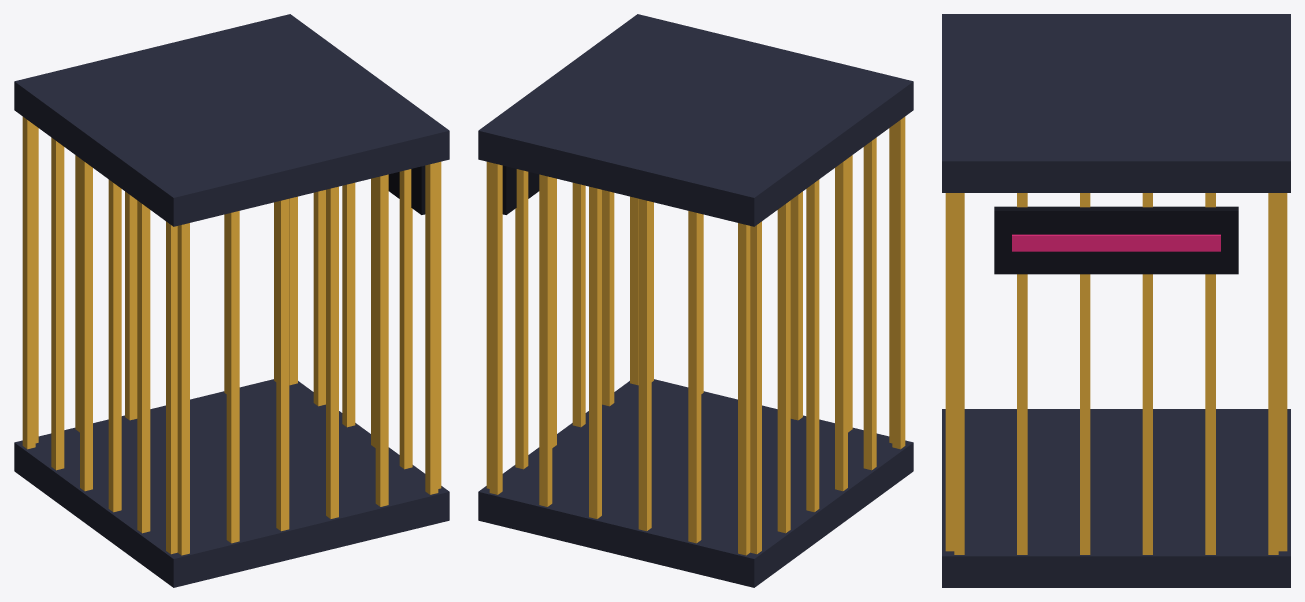
The model's file is pf_cage.glb.
The picture shows the model from 3 angles, left to right: view 1: azimuth 30°, elevation 25°; view 2: azimuth 150°, elevation 25°; view 3: azimuth 270°, elevation 25°; orthographic projection. The views are drawn at different scales.
Parts seen in each view (by area): view 1: p_box.1638, p_box.1637, p_box.1660, p_box.1644, p_box.1648, p_box.1656, p_box.1647, p_box.1659, p_box.1643, p_box.1655, p_box.1640, p_box.1652 (+12 smaller); view 2: p_box.1638, p_box.1637, p_box.1662, p_box.1646, p_box.1650, p_box.1658, p_box.1651, p_box.1639, p_box.1643, p_box.1655, p_box.1642, p_box.1654 (+12 smaller); view 3: p_box.1638, p_box.1637, p_box.1663, p_box.1641, p_box.1661, p_box.1664, p_box.1660, p_box.1662, p_box.1645, p_box.1657, p_box.1649, p_box.1653.
Part boxes in pixels (x1,y1,x2,y2): p_box.1638: (14, 14, 449, 226); p_box.1637: (14, 379, 449, 587); p_box.1660: (425, 162, 438, 494); p_box.1644: (226, 211, 239, 543); p_box.1648: (276, 199, 289, 531); p_box.1656: (375, 174, 388, 506); p_box.1647: (108, 179, 121, 512); p_box.1659: (22, 116, 35, 449); p_box.1643: (137, 200, 150, 533); p_box.1655: (51, 137, 64, 470); p_box.1640: (177, 223, 189, 555); p_box.1652: (326, 186, 338, 518); p_box.1638: (478, 14, 913, 226); p_box.1637: (478, 379, 913, 587); p_box.1662: (489, 162, 502, 494); p_box.1646: (688, 211, 701, 543); p_box.1650: (638, 199, 651, 531); p_box.1658: (539, 174, 552, 506); p_box.1651: (806, 179, 819, 512); p_box.1639: (892, 116, 905, 449); p_box.1643: (863, 137, 876, 470); p_box.1655: (777, 200, 790, 533); p_box.1642: (738, 223, 750, 555); p_box.1654: (589, 186, 601, 518); p_box.1638: (942, 14, 1290, 192); p_box.1637: (942, 409, 1290, 587); p_box.1663: (994, 206, 1238, 274); p_box.1641: (954, 193, 964, 554); p_box.1661: (1268, 193, 1278, 554); p_box.1664: (1012, 234, 1220, 251); p_box.1660: (945, 193, 954, 551); p_box.1662: (1278, 193, 1287, 551); p_box.1645: (1017, 193, 1027, 554); p_box.1657: (1205, 193, 1215, 554); p_box.1649: (1080, 193, 1090, 554); p_box.1653: (1142, 193, 1152, 554).
Bounding box in the file's own units: 2.04 × 2.7 × 2.
